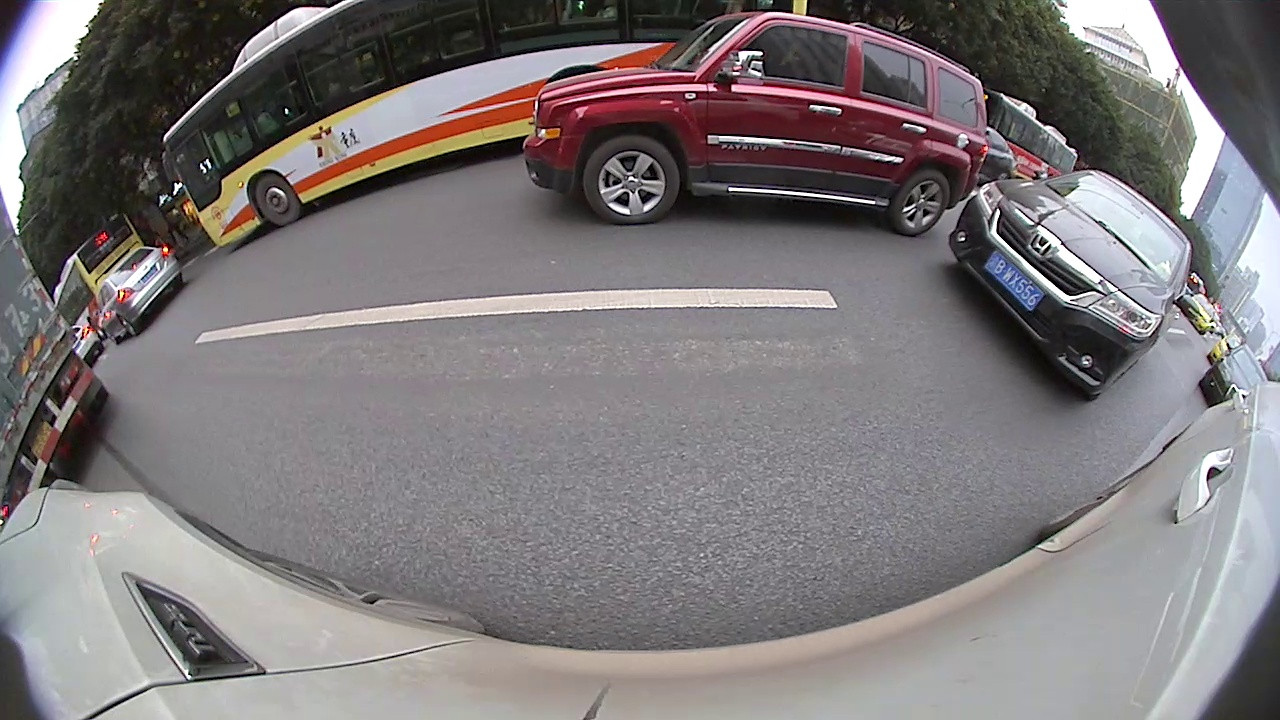bus: (163, 3, 809, 254), (51, 213, 141, 322), (979, 88, 1078, 182)
car: (523, 13, 989, 239), (950, 169, 1191, 404), (96, 247, 186, 349), (1200, 351, 1264, 410)
front: (583, 134, 680, 224), (255, 173, 301, 227)
rear: (888, 169, 951, 234), (118, 316, 141, 337)
truck: (1, 193, 106, 496)
